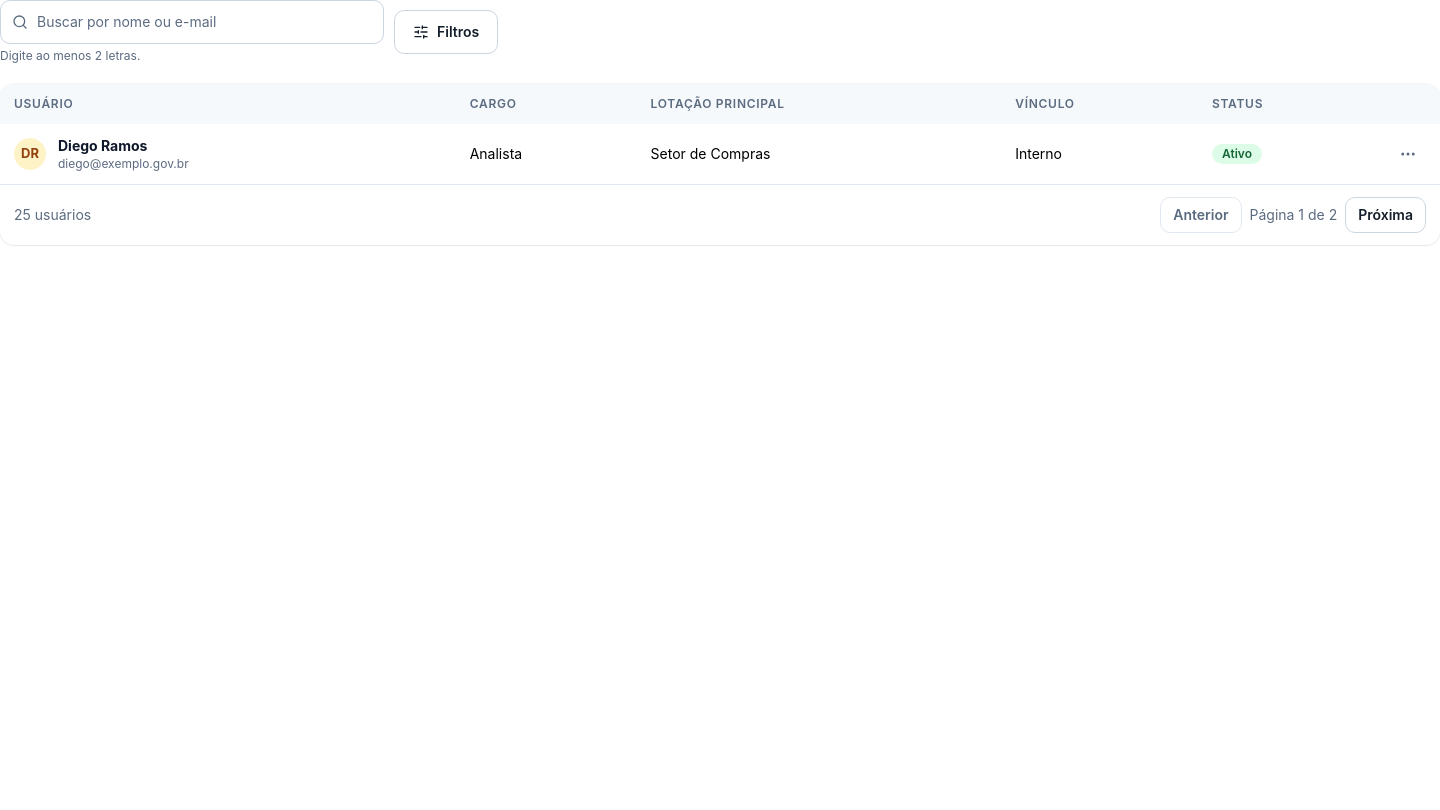
it: SCR-029 · lista de usuários (US-092) › pagina e volta à página 1 ao mudar o filtro
Check: the text "Página 1 de 2" is shown, box [1250,205,1337,225]
Click the button "Próxima".
click(1386, 215)  # box [1345,197,1426,233]
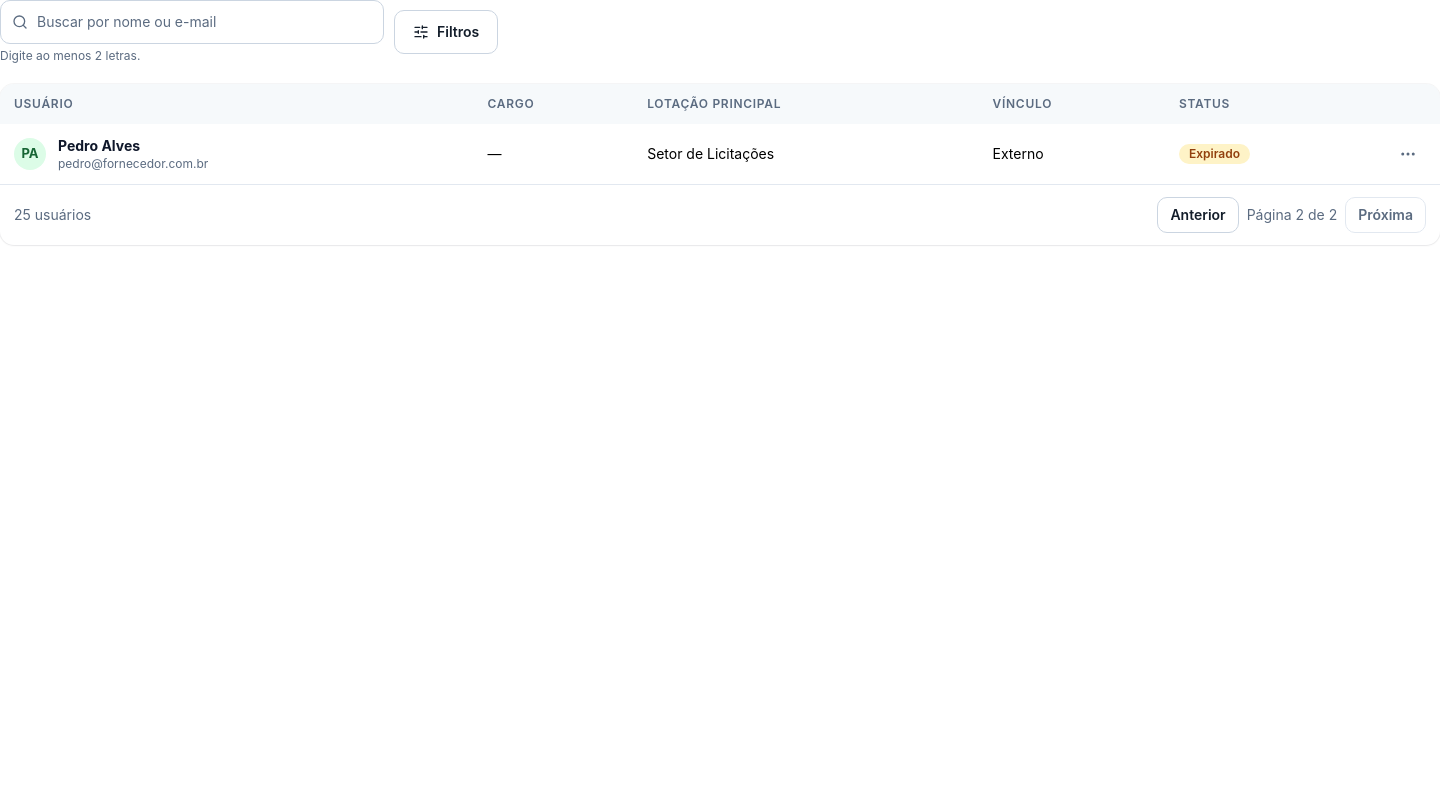
Check: the text "Página 2 de 2" is shown, box [1247,205,1337,225]
Click the button "Filtros".
click(446, 32)  # box [394,10,498,54]
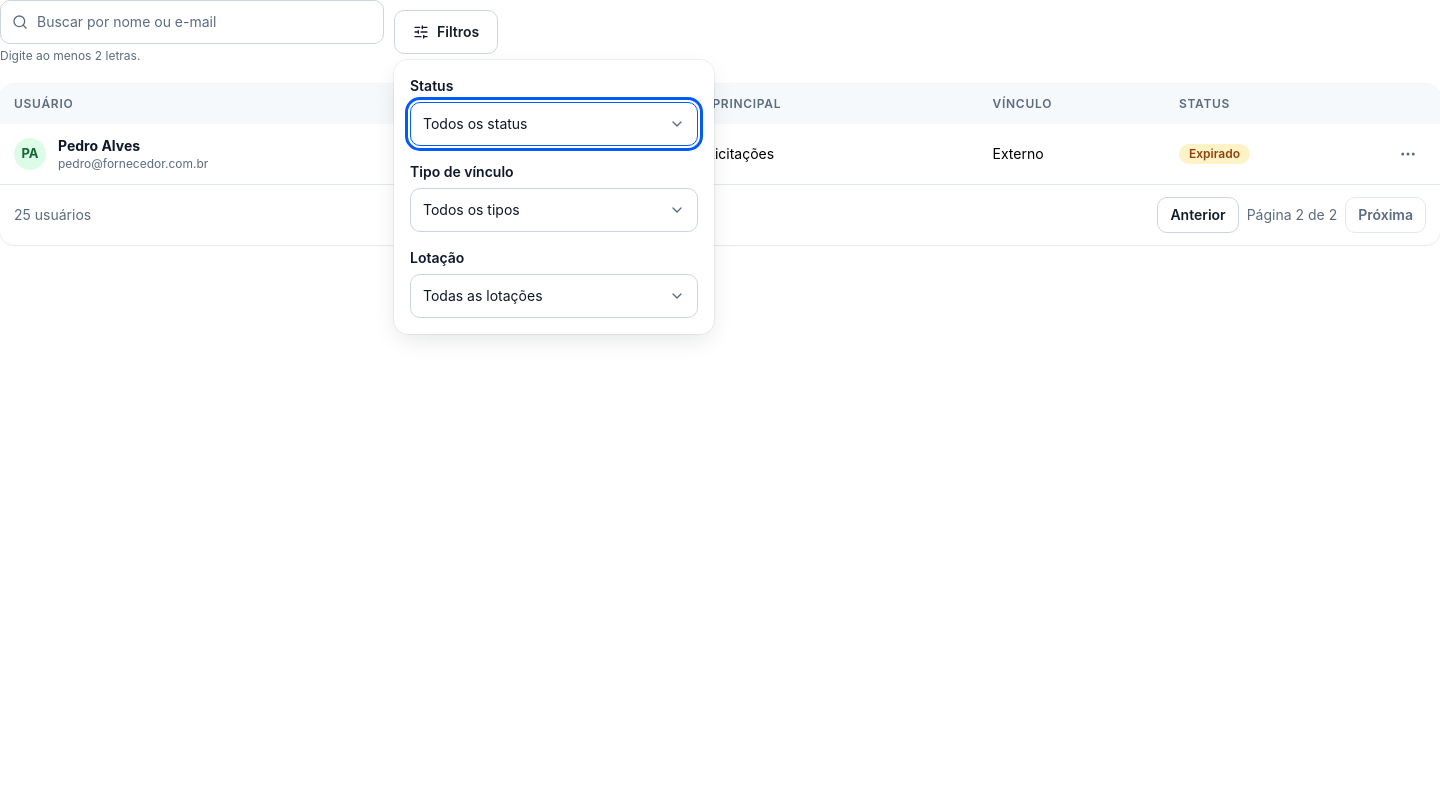
Click the dropdown labelled "status".
click(475, 124)  # box [410,102,698,146]
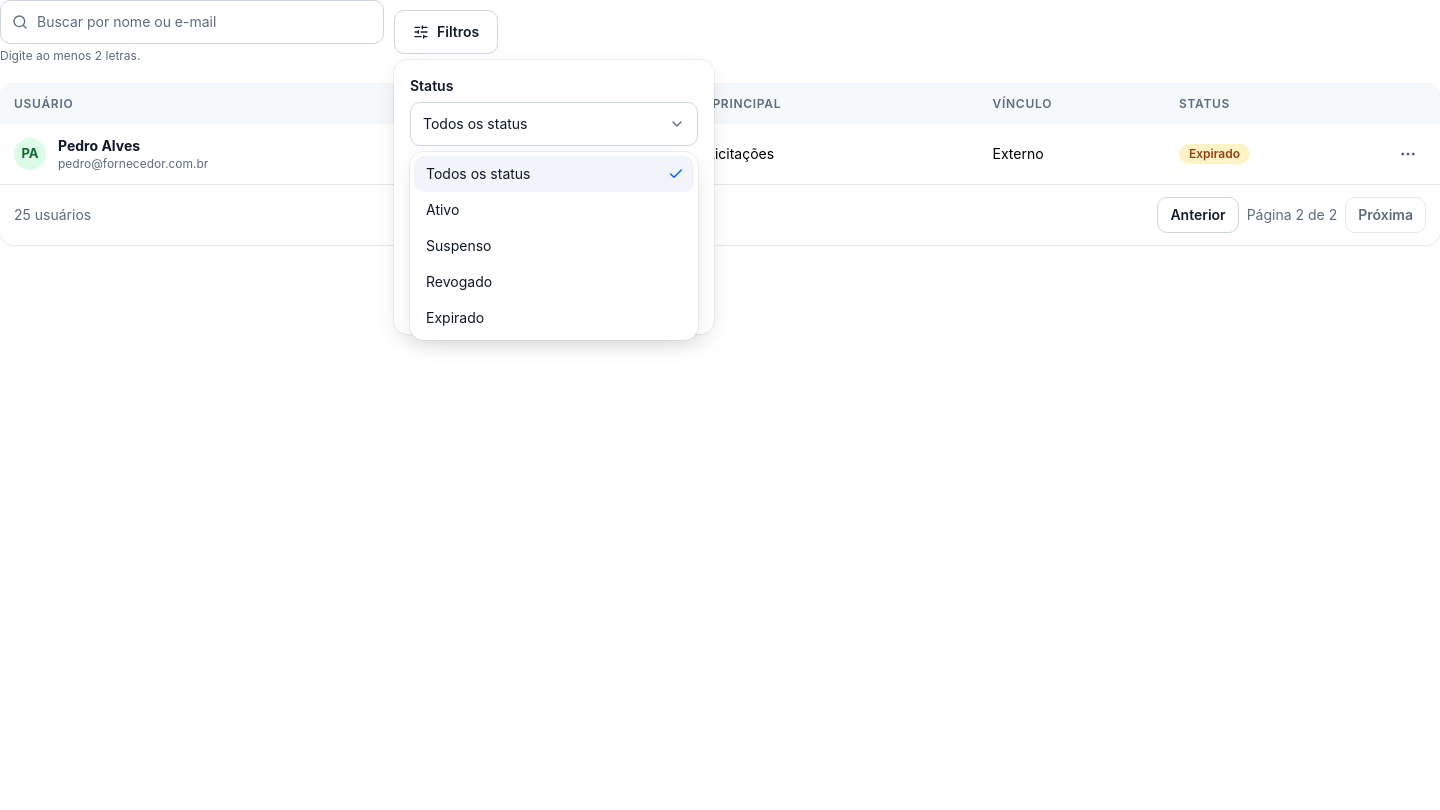
Click the option "Ativo".
click(443, 210)  # box [426,201,459,218]
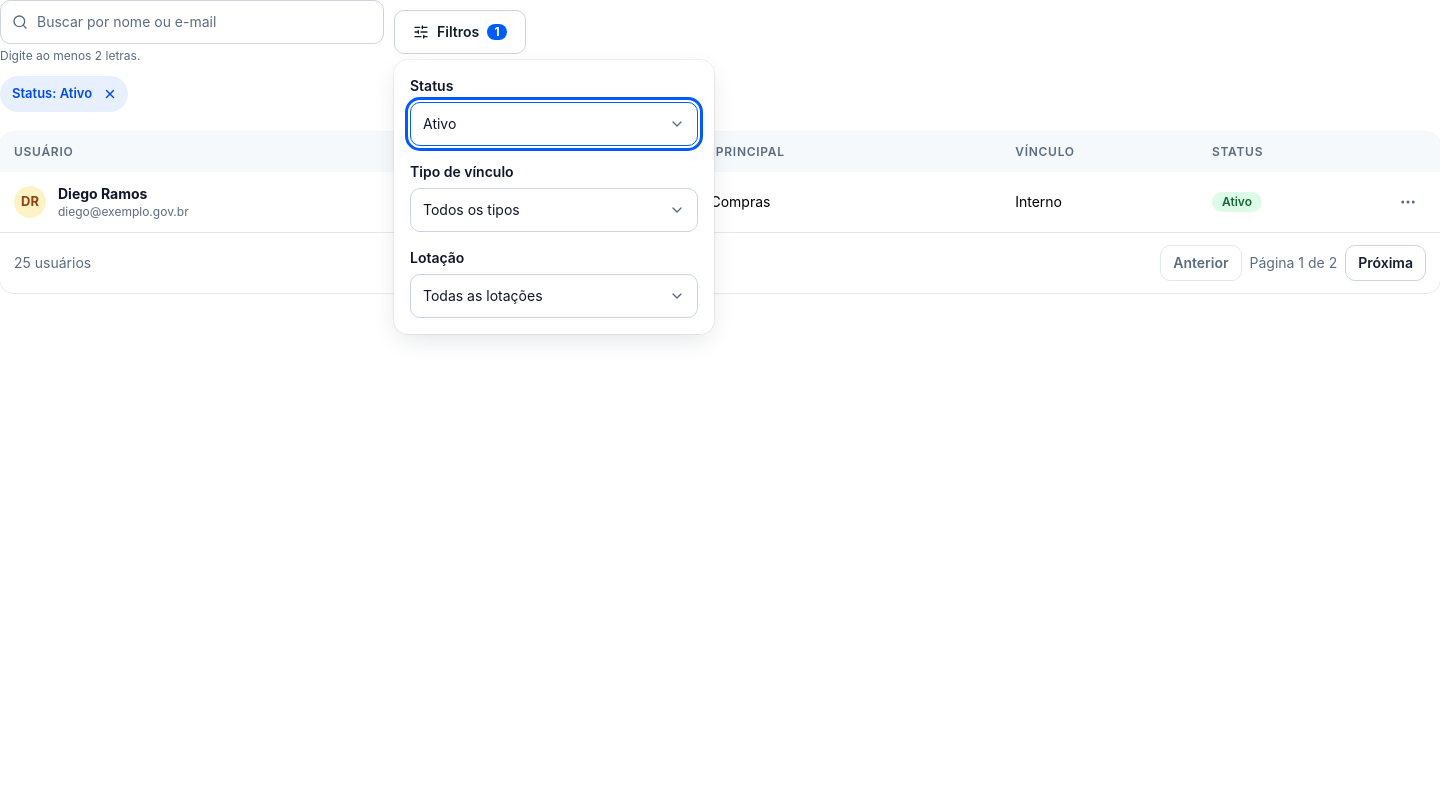
Check: the text "Página 1 de 2" is shown, box [1250,253,1337,273]
